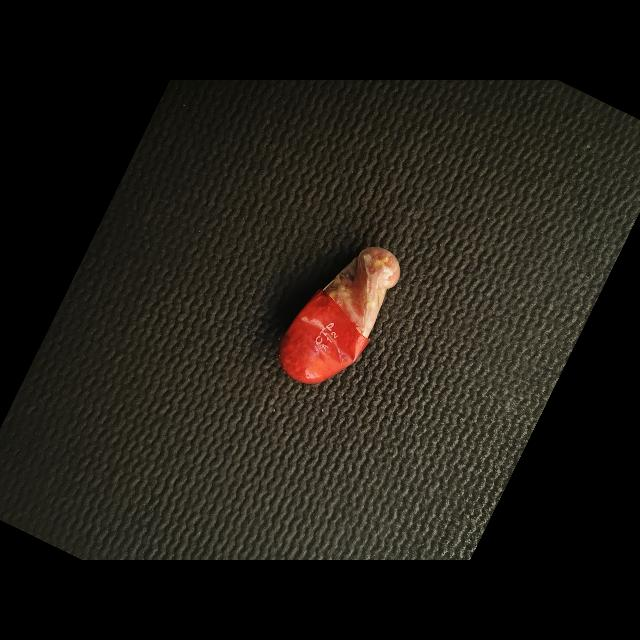Defective Capsule: (279, 247, 400, 383)
